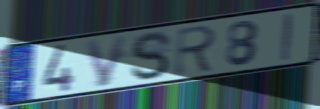4: (41, 42, 75, 94)
8: (225, 19, 259, 67)
I: (279, 11, 294, 63)
R: (172, 23, 219, 78)
S: (129, 30, 174, 83)
V: (84, 33, 130, 90)
